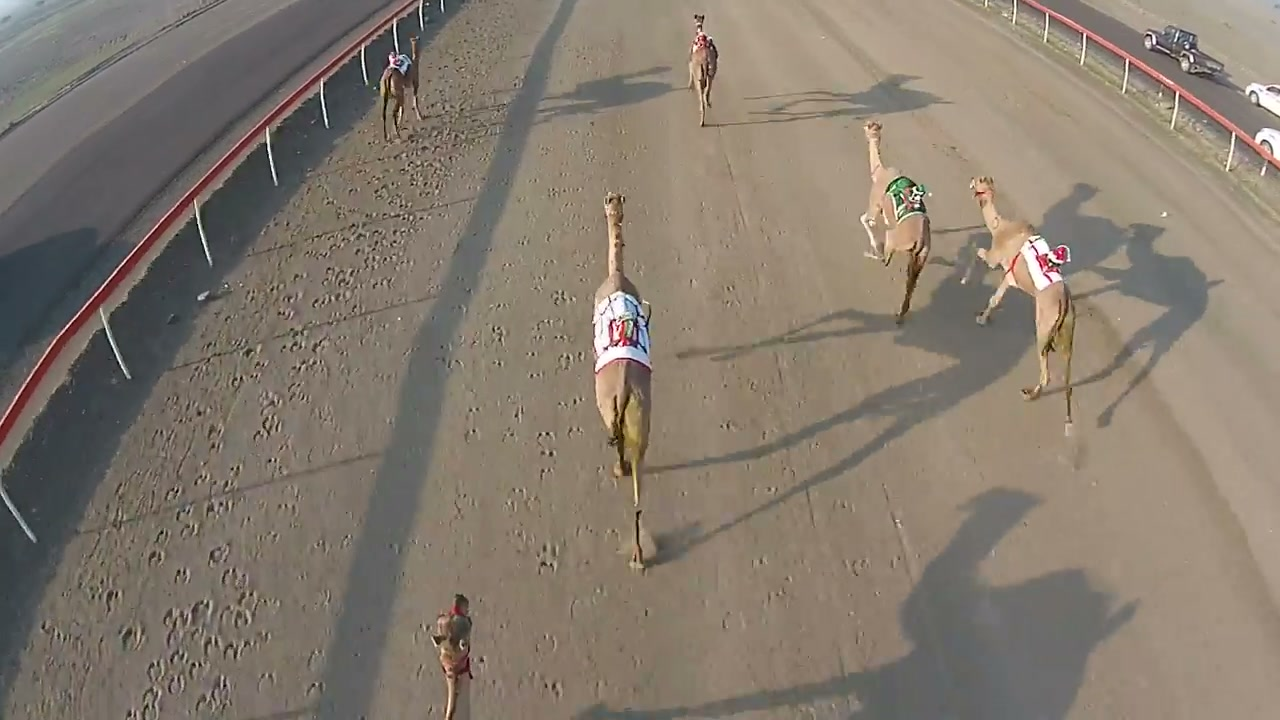animal_footprint: (117, 102, 479, 719), (517, 216, 609, 704)
